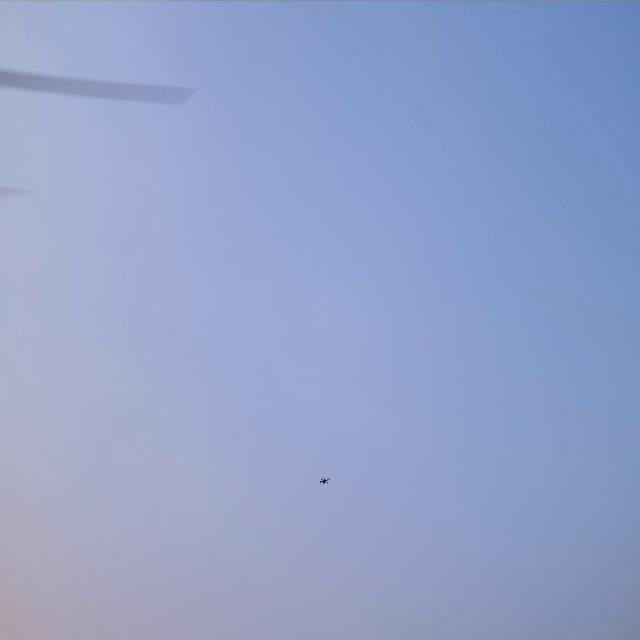UAV: (318, 476, 331, 487)
